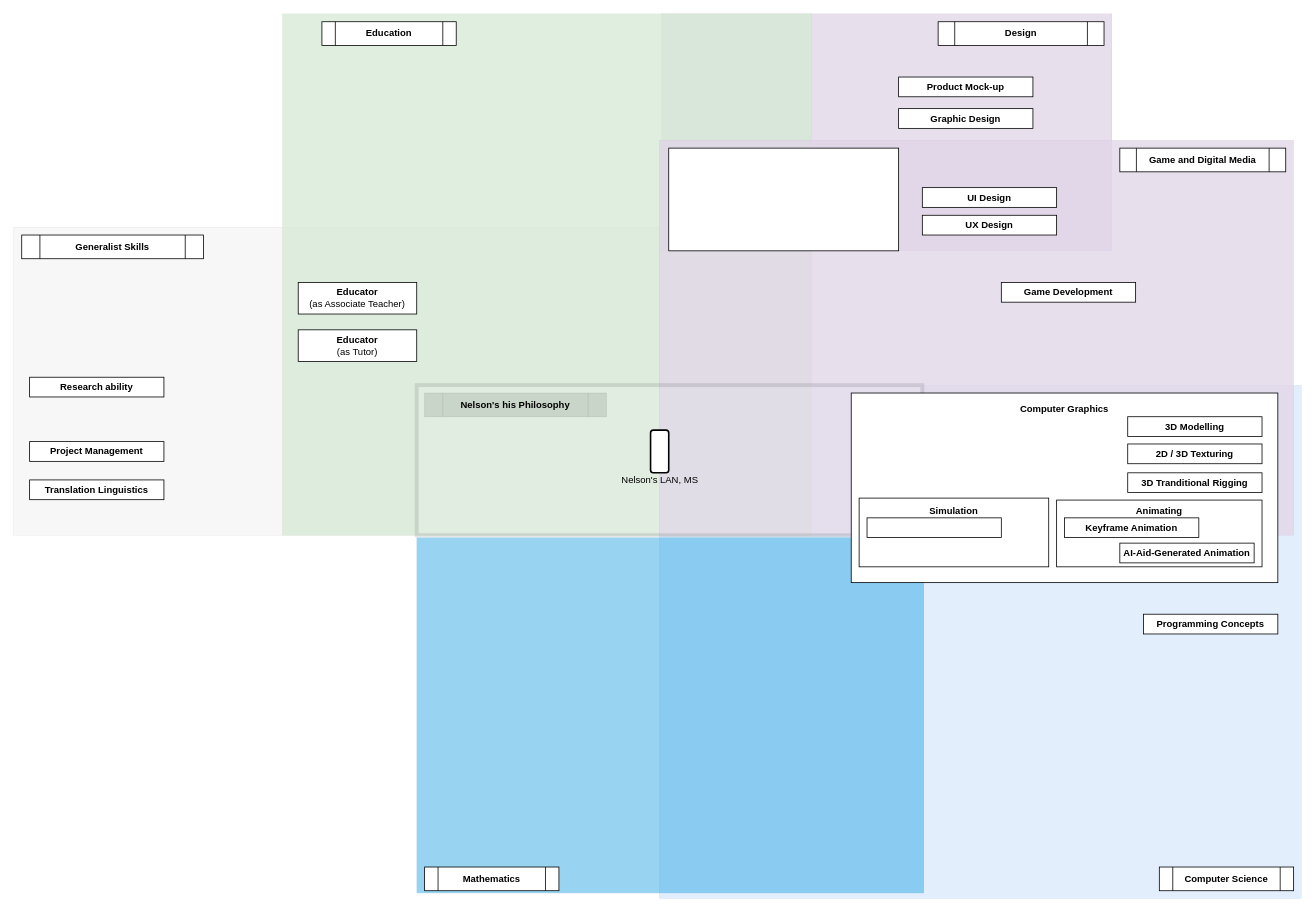
Some shapes in this 1315 by 912 pixel diagram are drawn without their labels. Each missing label, with the centre of its shape:
"Cloths" belongs at pixel 933 527.
"Multimedia Production" belongs at pixel 783 199.
